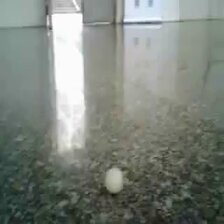w: (103, 165, 126, 194)
